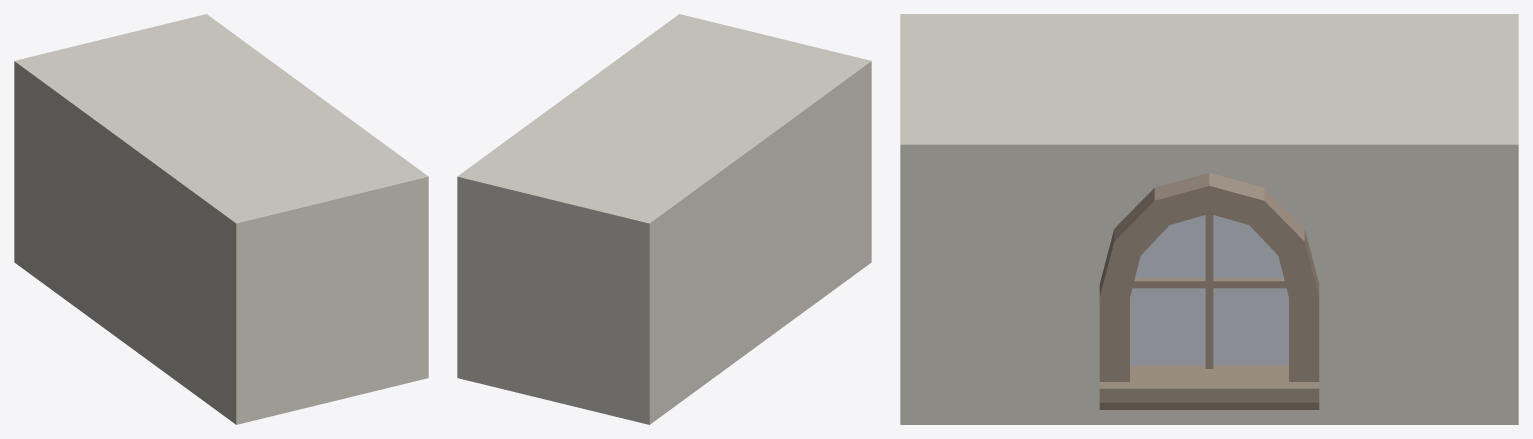
File: Stucco_Window_Rounded_Wide.glb
The picture shows the model from 3 angles, left to right: view 1: azimuth 30°, elevation 25°; view 2: azimuth 150°, elevation 25°; view 3: azimuth 270°, elevation 25°; orthographic projection. The views are drawn at different scales.
Parts seen in each view (by area): view 1: object2; view 2: object2; view 3: object2, object3, object1.
Boxes of the visible parts, left/top/right/bottom form: object2: left=14, top=14, right=428, bottom=424; object2: left=457, top=14, right=871, bottom=424; object2: left=900, top=14, right=1518, bottom=424; object3: left=1099, top=172, right=1319, bottom=409; object1: left=1132, top=214, right=1286, bottom=368.
Bounding box in the file's own units: 1.15 × 1 × 2.
